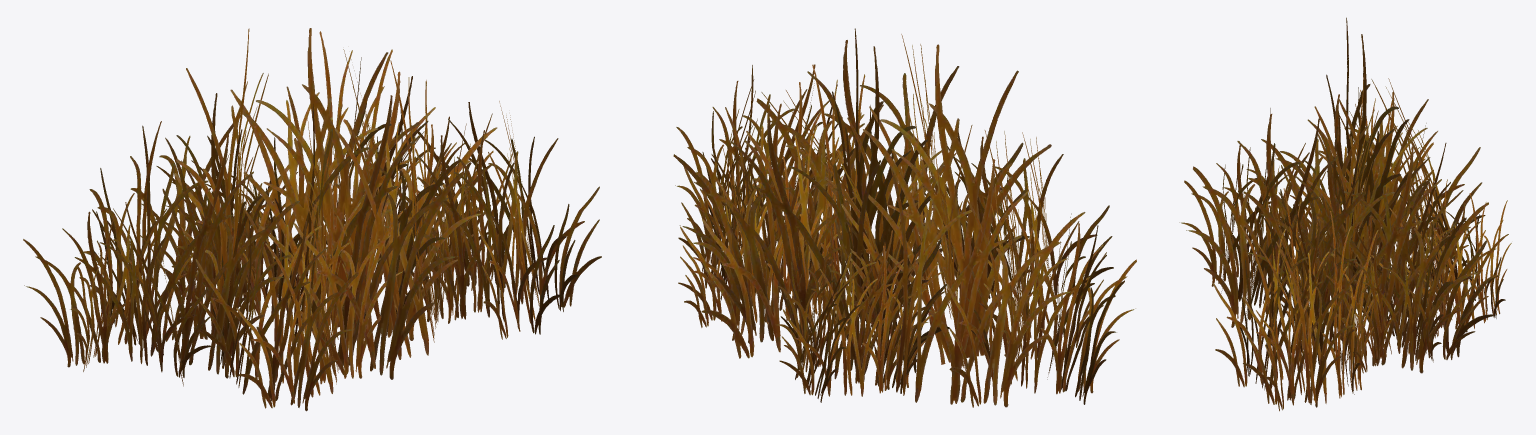
3 renders of one model, left to right at view 1: azimuth 30°, elevation 25°; view 2: azimuth 150°, elevation 25°; view 3: azimuth 270°, elevation 25°, orthographic. The views are drawn at different scales.
Parts seen in each view (by area): view 1: SM_HL_Grass_Long_01_D_LOD0; view 2: SM_HL_Grass_Long_01_D_LOD0; view 3: SM_HL_Grass_Long_01_D_LOD0.
Part boxes in pixels (left/top/right/bottom): SM_HL_Grass_Long_01_D_LOD0: left=23, top=28, right=601, bottom=411; SM_HL_Grass_Long_01_D_LOD0: left=673, top=28, right=1136, bottom=407; SM_HL_Grass_Long_01_D_LOD0: left=1179, top=17, right=1511, bottom=411.
Bounding box in the file's own units: 1.61 × 0.943 × 1.09.
1 material, 1 textured.
